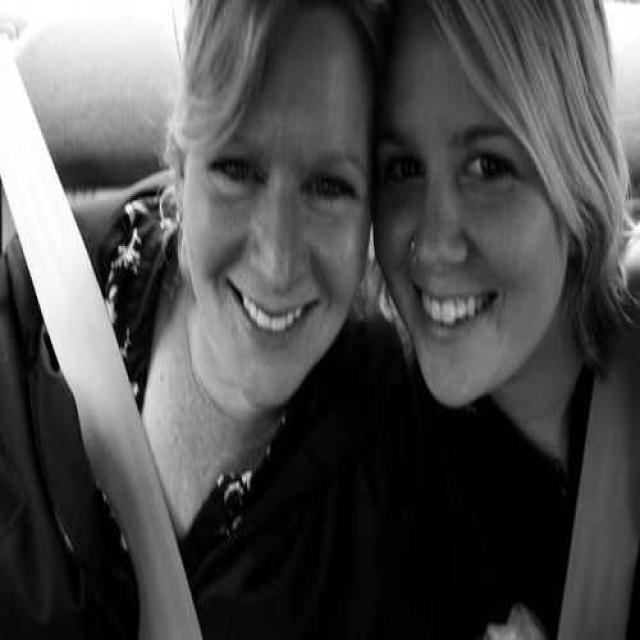Seatbelt: (2, 59, 208, 640)
